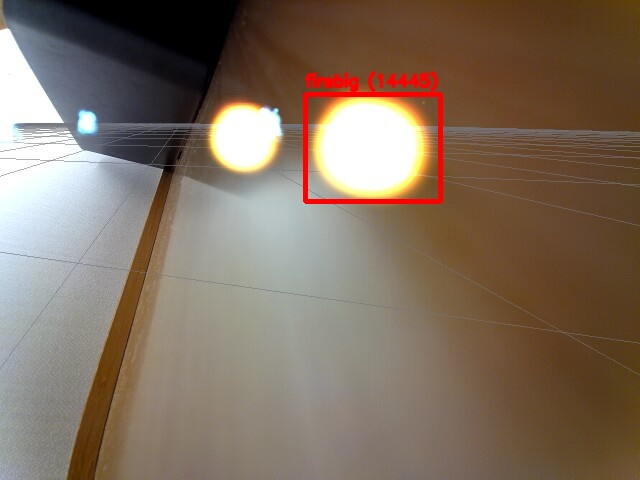firebig: (305, 94, 440, 201)
